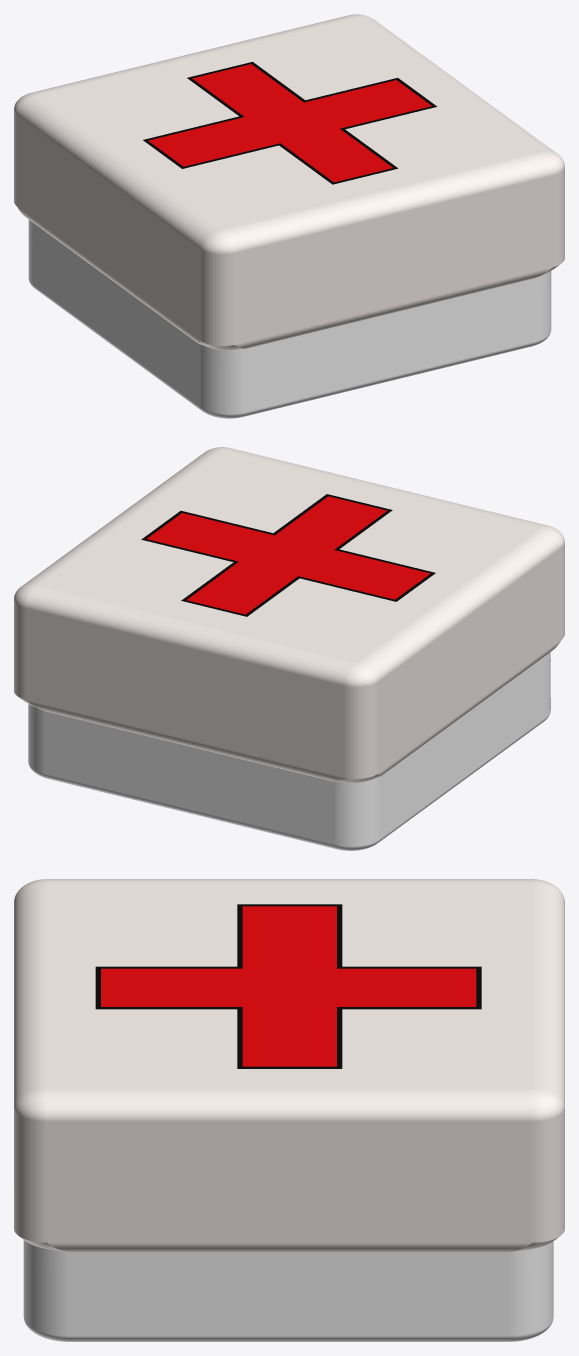
Rendered from health kit.fbx.
The picture shows the model from 3 angles, top to bottom: view 1: azimuth 30°, elevation 25°; view 2: azimuth 150°, elevation 25°; view 3: azimuth 270°, elevation 25°; orthographic projection. The views are drawn at different scales.
Visible parts, largest first — view 1: health kit; view 2: health kit; view 3: health kit.
Boxes of the visible parts, x1,y1,x2,y2 form: health kit: (14, 14, 564, 418); health kit: (14, 447, 564, 850); health kit: (14, 879, 564, 1341).
Bounding box in the file's own units: 208 × 106 × 208.
